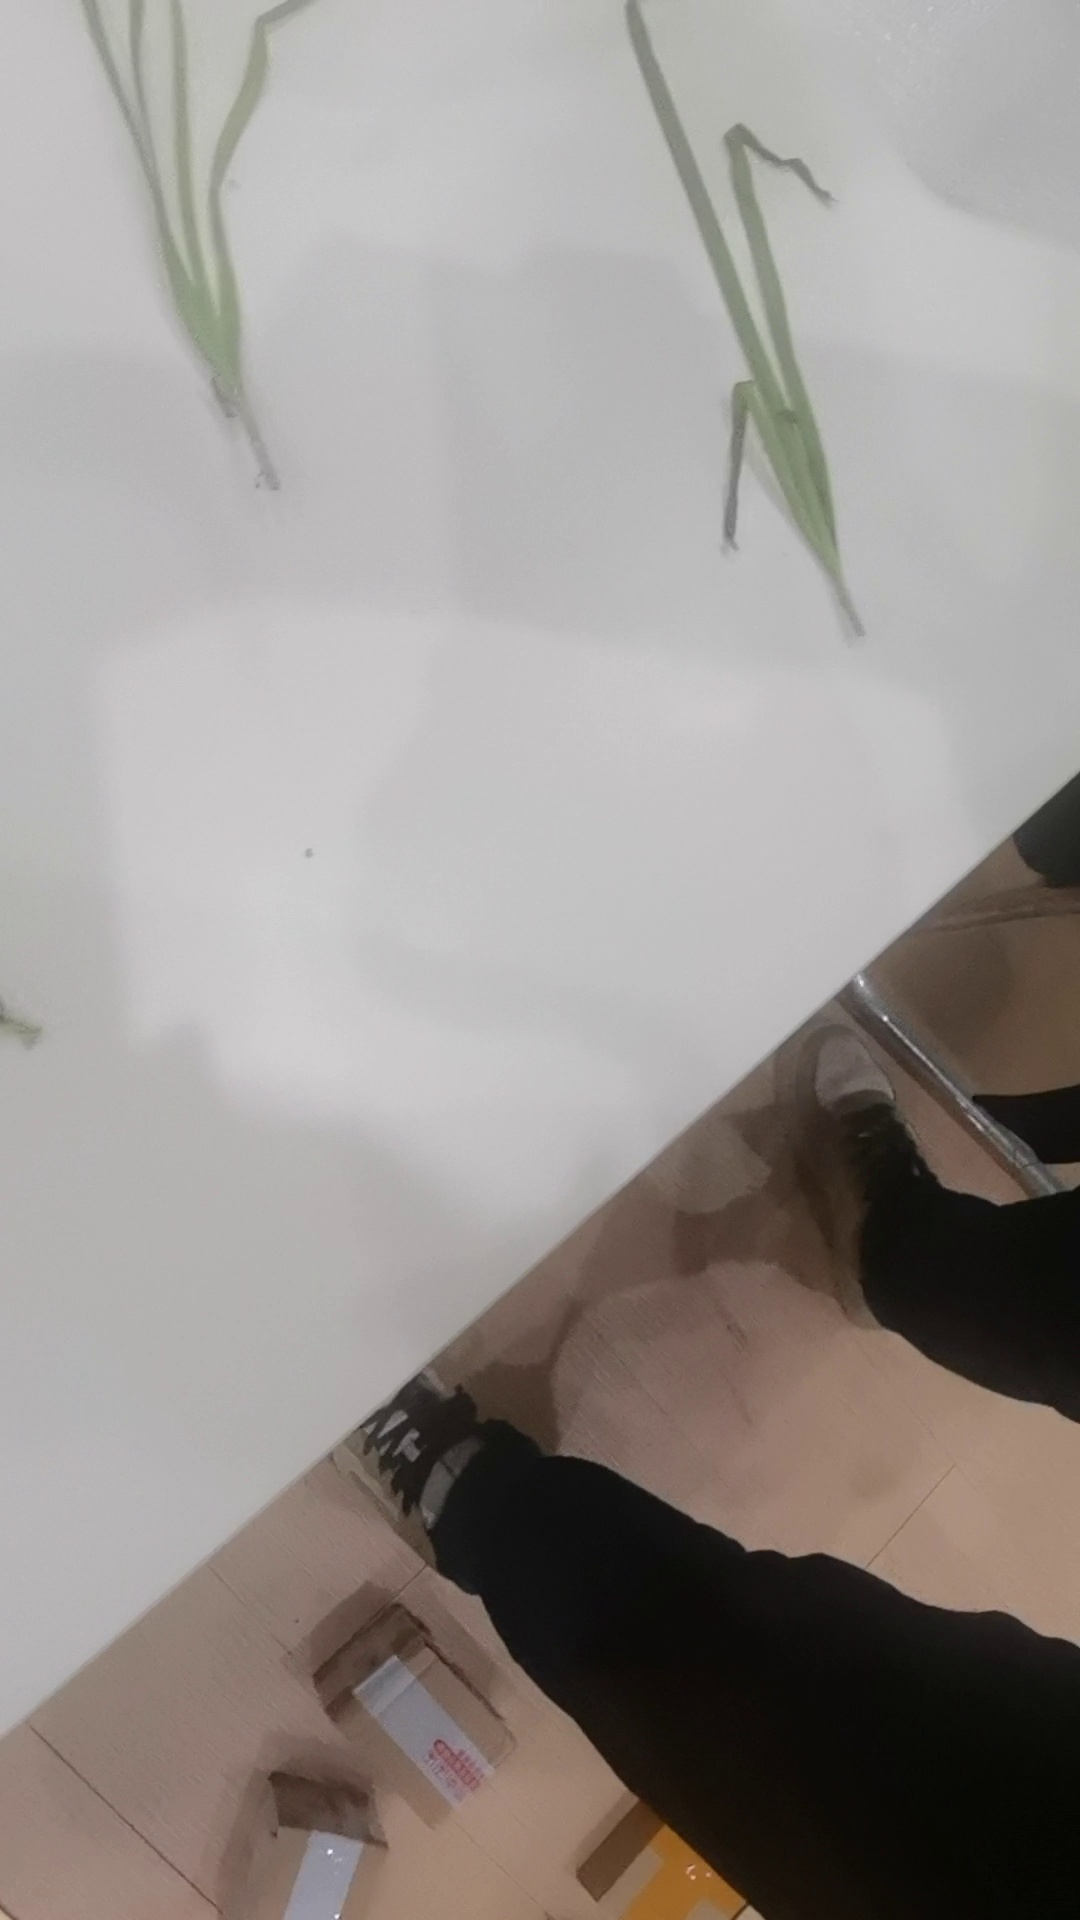chives: (615, 1, 887, 641), (34, 1, 295, 506)
